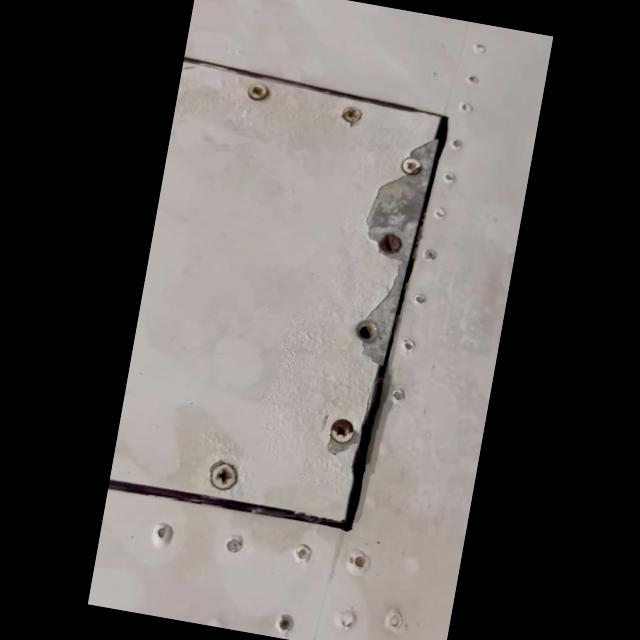Missing Fastener: (352, 316, 382, 344)
